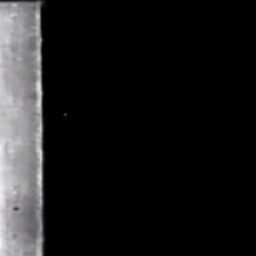Targetw: (62, 112, 68, 117)
